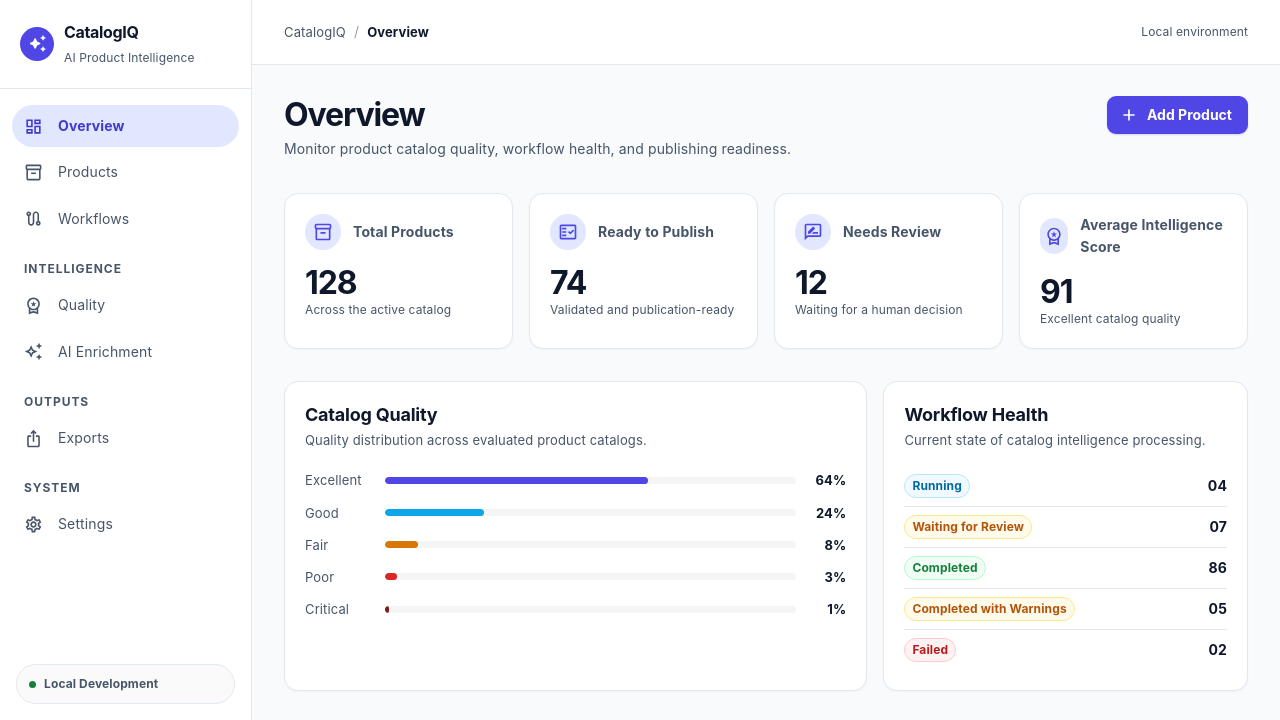
it: CatalogIQ application shell › routes sidebar Quality navigation to the real challenge evaluation page
Expected: the heading "Overview" is shown, [284, 96, 425, 134]
Click the link "Quality" at (65, 305), box [24, 296, 105, 315]
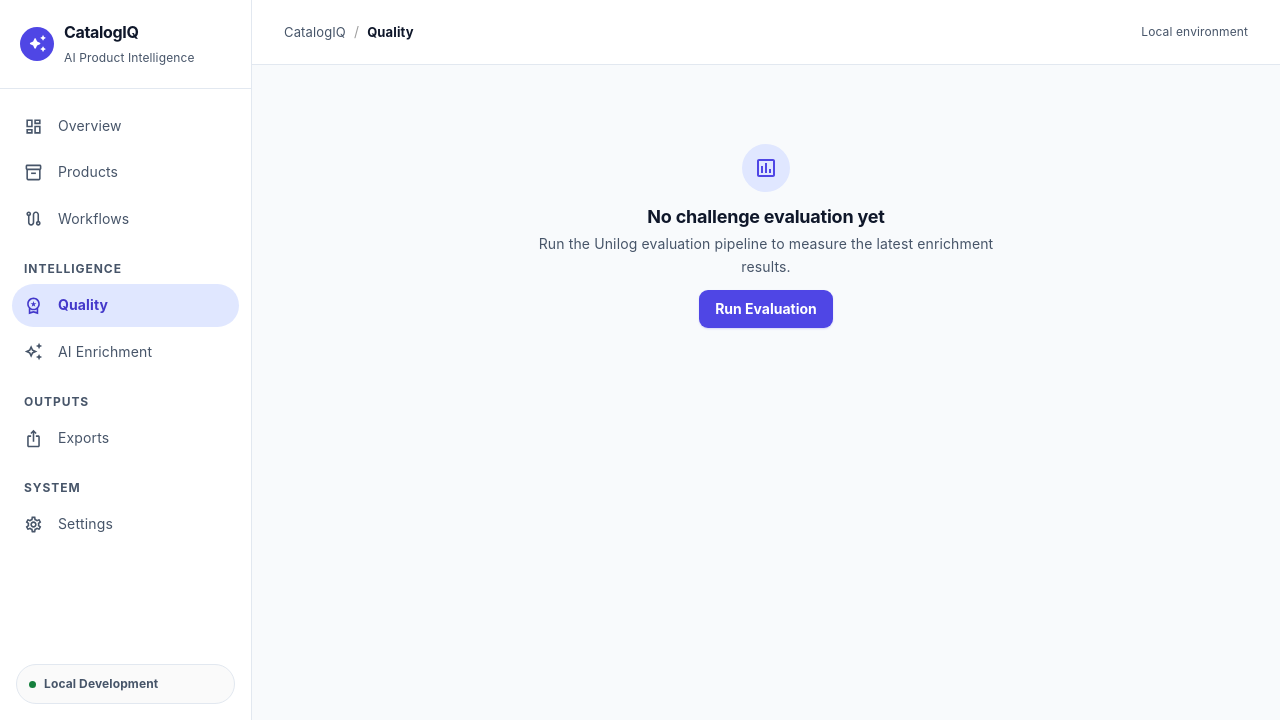
Now the heading "No challenge evaluation yet" is shown, box [647, 206, 885, 227]
